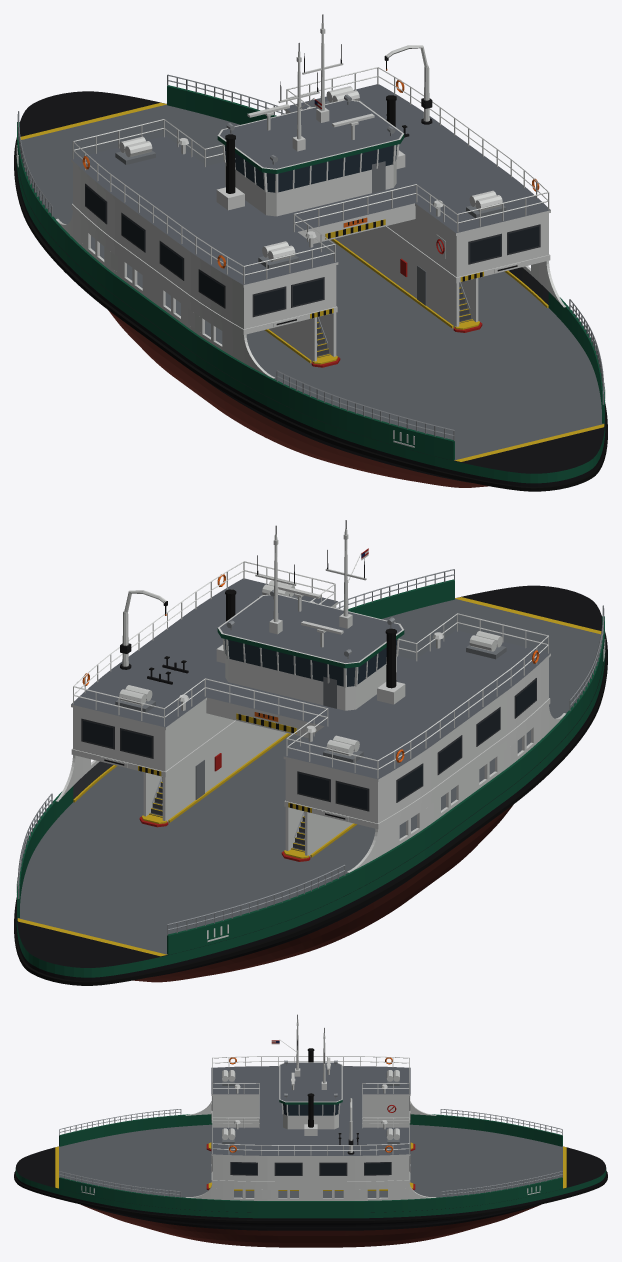
The model's file is hiyu_mid.glb.
The picture shows the model from 3 angles, top to bottom: view 1: azimuth 30°, elevation 25°; view 2: azimuth 150°, elevation 25°; view 3: azimuth 270°, elevation 25°; orthographic projection. The views are drawn at different scales.
Parts seen in each view (by area): view 1: fixed, thinshadow, window, glass; view 2: fixed, thinshadow, window, glass; view 3: fixed, thinshadow, window, glass.
Part boxes in pixels (x1,y1,x2,y2): fixed: [14, 23, 607, 491]; thinshadow: [17, 14, 604, 441]; window: [85, 186, 538, 315]; glass: [224, 145, 397, 192]; fixed: [14, 528, 607, 985]; thinshadow: [17, 520, 604, 935]; window: [83, 680, 536, 809]; glass: [224, 639, 397, 686]; fixed: [14, 1019, 607, 1247]; thinshadow: [59, 1014, 562, 1197]; window: [231, 1163, 390, 1174]; glass: [283, 1104, 338, 1115].
Size of the model in its own units: 19.52 by 19.2 by 53.31.
